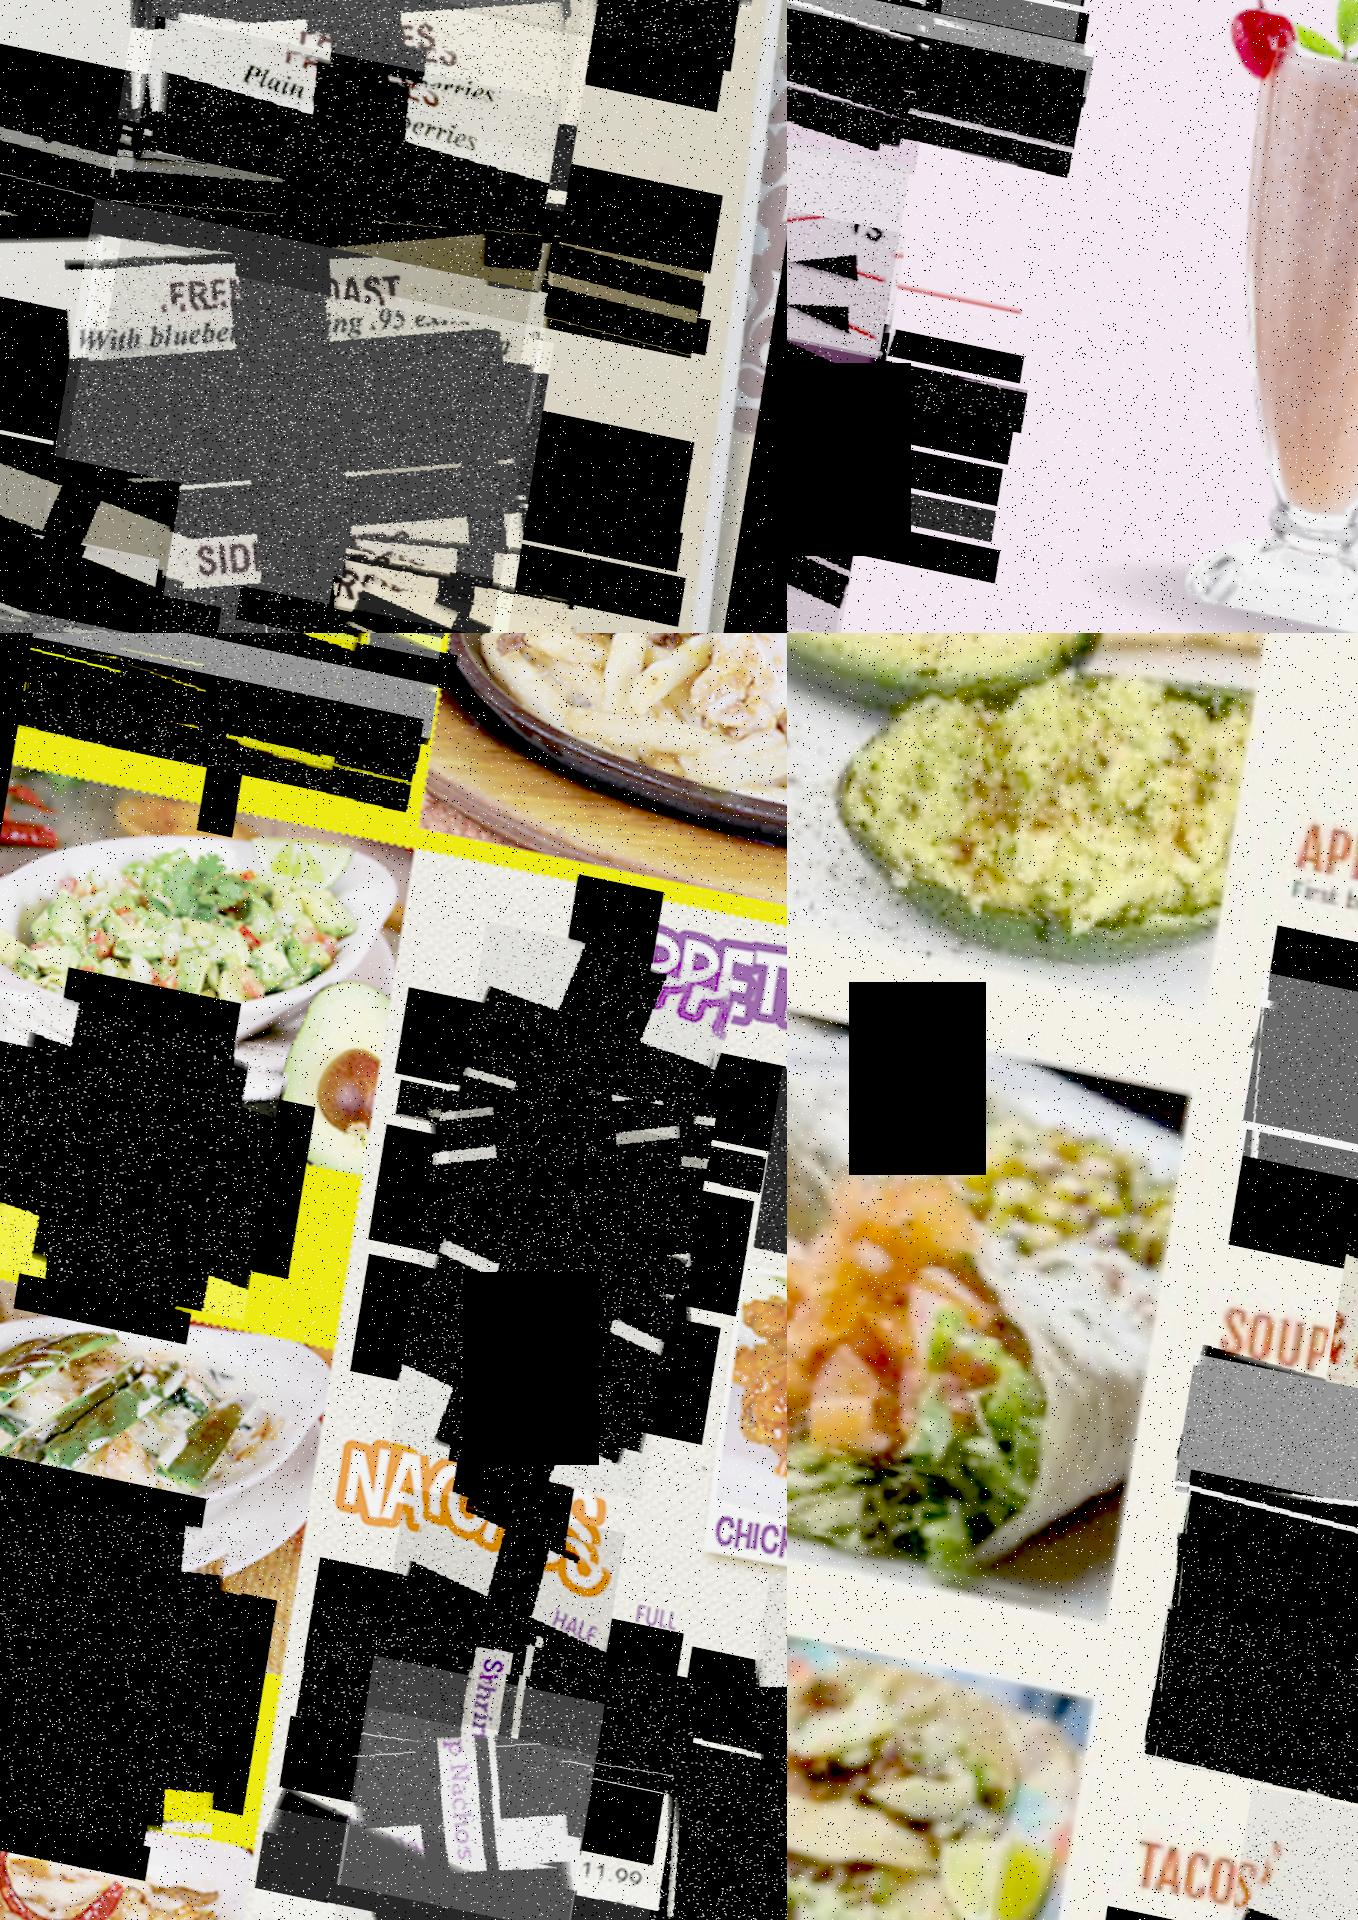Menu-Items: (12, 144, 558, 633), (59, 16, 566, 499), (0, 197, 550, 633), (48, 0, 606, 423), (0, 247, 556, 633), (0, 85, 698, 358), (96, 0, 600, 256), (101, 0, 606, 219), (385, 1061, 719, 1381), (366, 1197, 683, 1501), (0, 992, 291, 1321), (0, 1476, 250, 1857), (428, 921, 738, 1218), (276, 1600, 692, 1800), (112, 0, 632, 156), (310, 1656, 600, 1920), (348, 1488, 622, 1751), (1120, 1603, 1358, 1888), (306, 1707, 589, 1920), (1145, 1469, 1358, 1753), (1154, 1353, 1358, 1625), (18, 638, 422, 774), (786, 156, 908, 604), (786, 91, 913, 516), (229, 1805, 669, 1920), (786, 0, 1067, 173), (12, 689, 412, 809), (786, 207, 894, 633), (0, 0, 733, 62), (1218, 972, 1358, 1285), (24, 633, 436, 739), (786, 0, 1079, 148), (387, 1081, 760, 1193), (786, 254, 1016, 430), (98, 633, 391, 768), (0, 436, 172, 633), (786, 378, 982, 542), (622, 1726, 786, 1920), (786, 0, 1088, 97), (703, 1575, 786, 1886), (279, 548, 564, 633), (215, 585, 638, 633), (0, 535, 203, 633), (0, 516, 148, 633), (269, 574, 564, 633)
